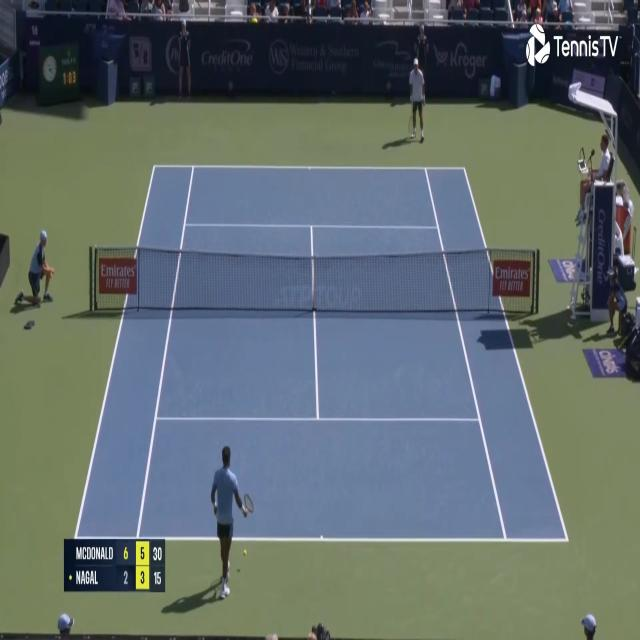tennis-player: (206, 441, 257, 604), (406, 56, 426, 143)
